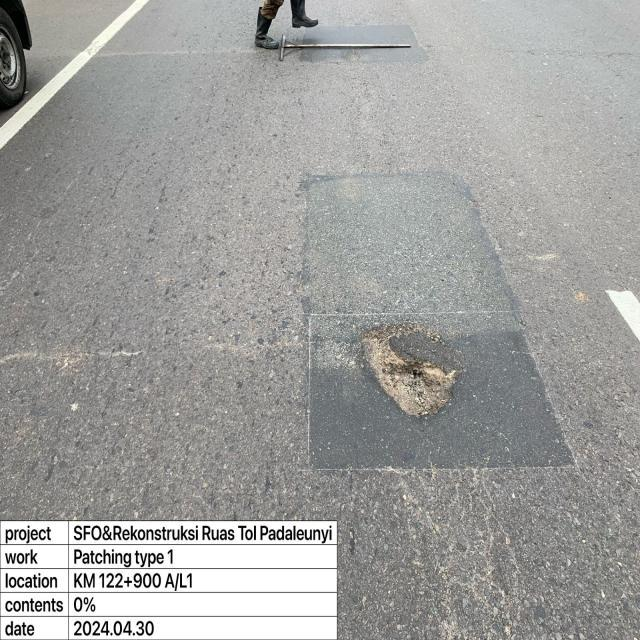Buraco: (354, 320, 469, 426)
